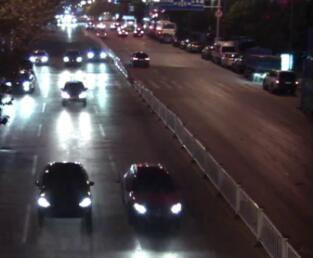bus: (153, 18, 176, 43), (145, 17, 156, 39)
car: (119, 162, 183, 233), (33, 160, 95, 229), (241, 44, 279, 82), (260, 68, 300, 96), (3, 68, 37, 95), (58, 79, 90, 106), (211, 40, 236, 62), (220, 49, 244, 70), (83, 44, 108, 64), (27, 47, 49, 67), (61, 47, 83, 67), (129, 50, 151, 68), (199, 42, 217, 60), (183, 39, 199, 53), (93, 27, 108, 39), (116, 26, 130, 37), (133, 26, 145, 38), (84, 20, 96, 30), (108, 20, 121, 29)
